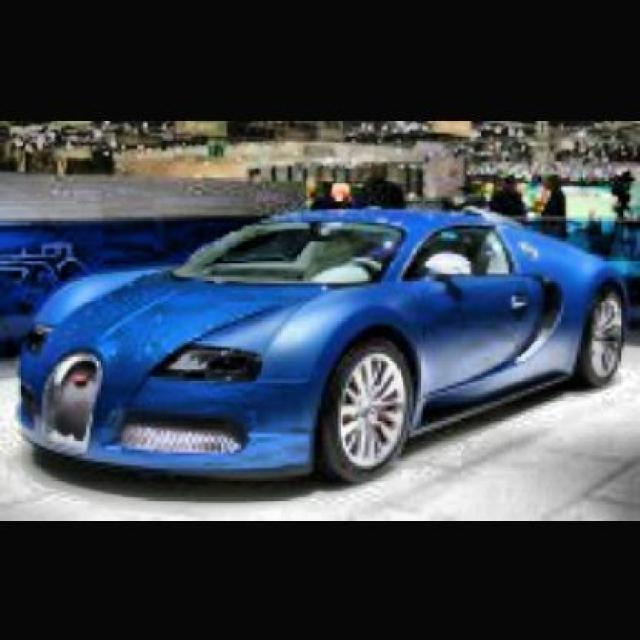blue: (1, 192, 640, 453)
